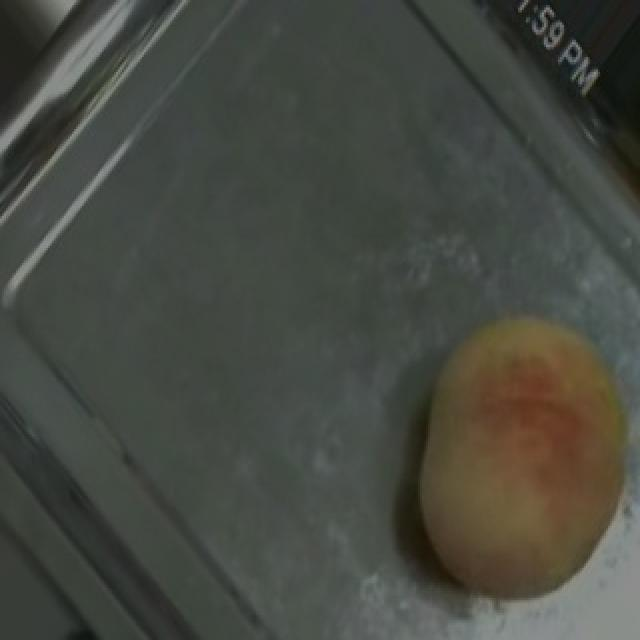Fruit: (372, 273, 640, 627)
